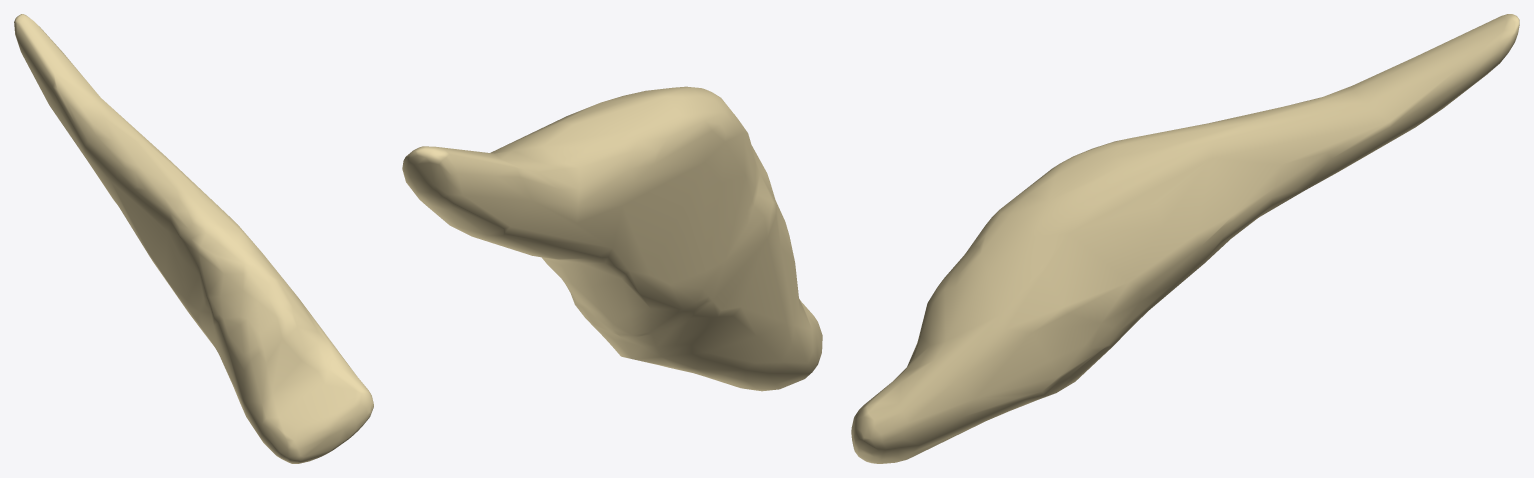
3 renders of one model, left to right at view 1: azimuth 30°, elevation 25°; view 2: azimuth 150°, elevation 25°; view 3: azimuth 270°, elevation 25°, orthographic. The views are drawn at different scales.
Visible parts, largest first — view 1: 左侧下颌侧切牙; view 2: 左侧下颌侧切牙; view 3: 左侧下颌侧切牙.
Boxes of the visible parts, box(x1,y1,x2,y2) form: 左侧下颌侧切牙: box(14, 14, 373, 463); 左侧下颌侧切牙: box(402, 86, 822, 391); 左侧下颌侧切牙: box(851, 14, 1519, 463).
Size of the model in its own units: 0.0113 by 0.0242 by 0.0361.
